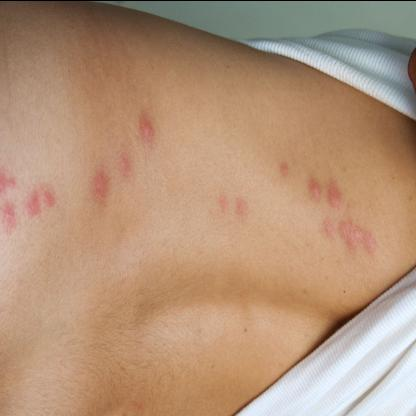Bed Bug: (317, 216, 380, 258), (25, 173, 57, 229), (305, 174, 345, 212), (1, 165, 20, 243), (218, 188, 250, 220), (134, 111, 160, 143), (89, 166, 109, 206), (115, 152, 136, 180), (275, 156, 292, 182)
